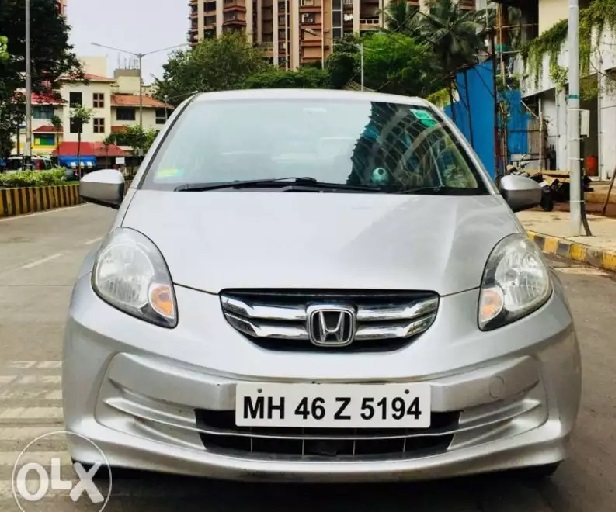licenseplate: (234, 378, 434, 433)
